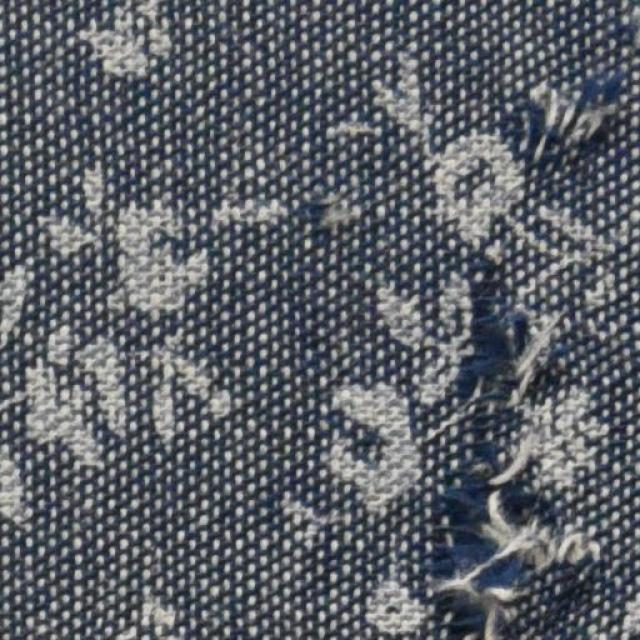Snag: (435, 256, 585, 639), (514, 74, 629, 166)
